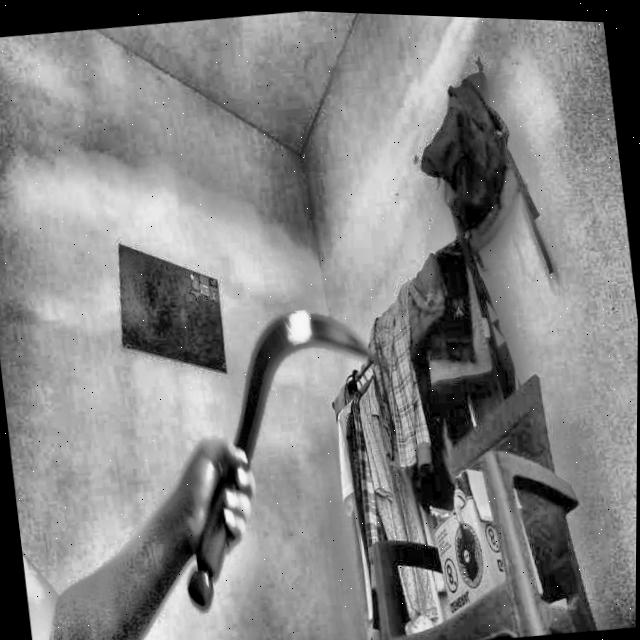celurit: (149, 294, 411, 636)
